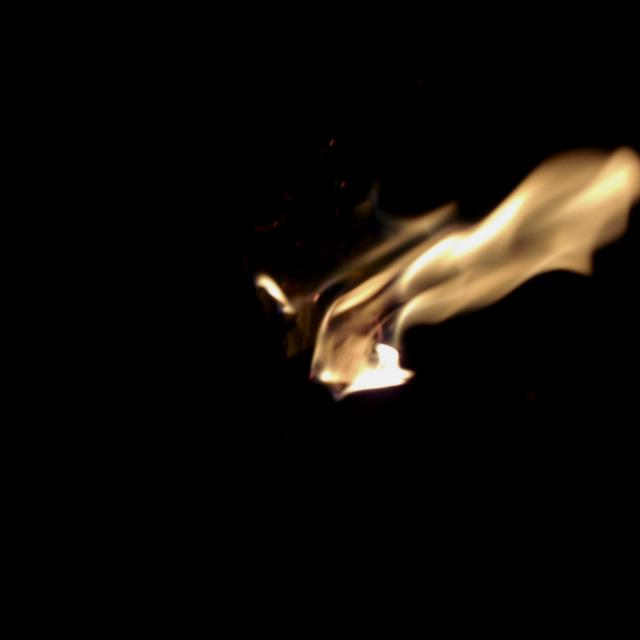firerotation: (249, 144, 640, 400)
